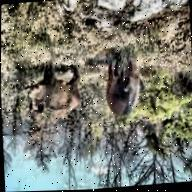boar: (94, 34, 161, 128), (7, 61, 93, 126)
